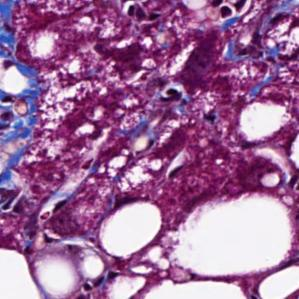inflammation: (263, 12, 299, 60), (0, 92, 34, 134), (35, 195, 72, 225), (208, 0, 257, 22), (154, 80, 192, 108)
